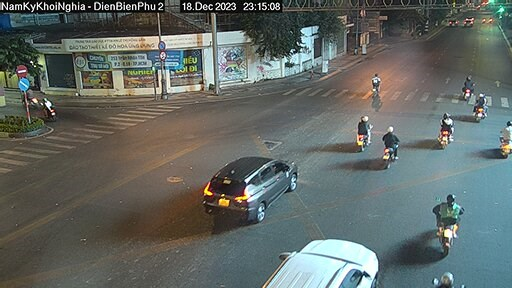car: (198, 143, 307, 225), (260, 227, 385, 288)
motorbike: (423, 192, 465, 248), (346, 113, 371, 152), (377, 129, 401, 165), (491, 116, 512, 151), (434, 110, 456, 138), (473, 94, 494, 121), (363, 72, 387, 95), (462, 76, 477, 97)
